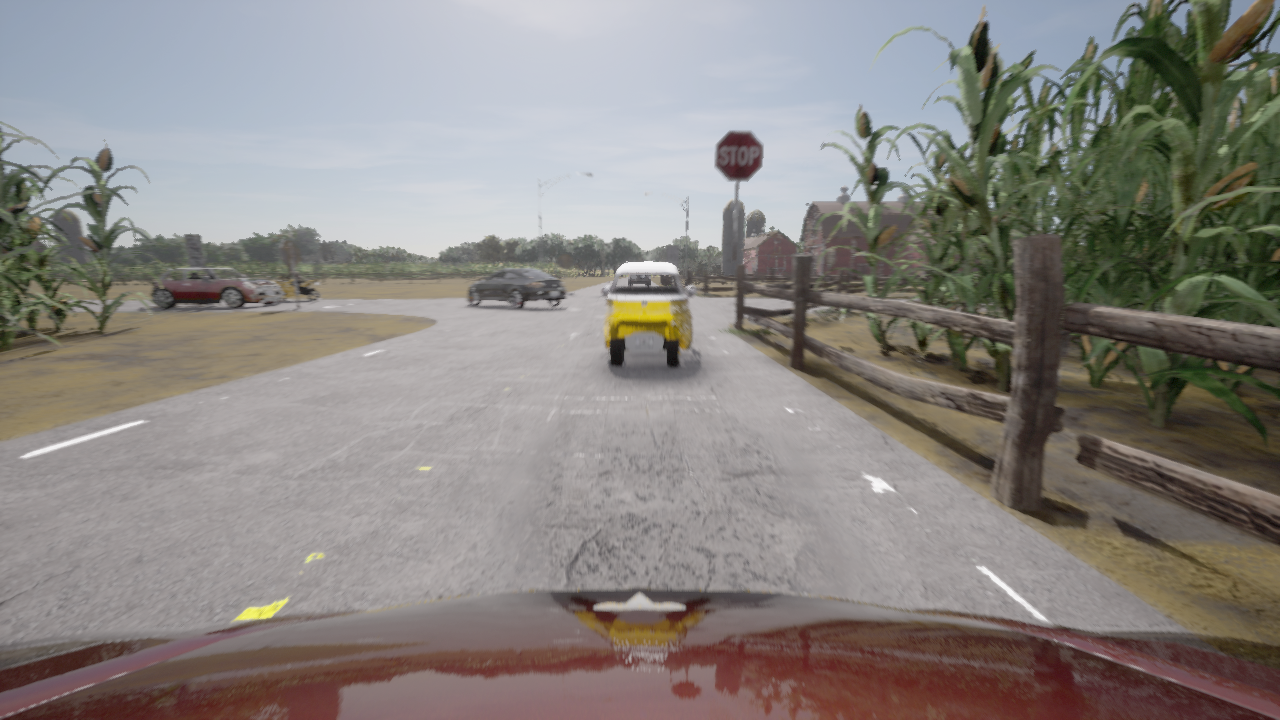cyclist: (0, 588, 1279, 719), (602, 262, 695, 366), (152, 268, 283, 308), (467, 267, 566, 308), (274, 275, 320, 300)
